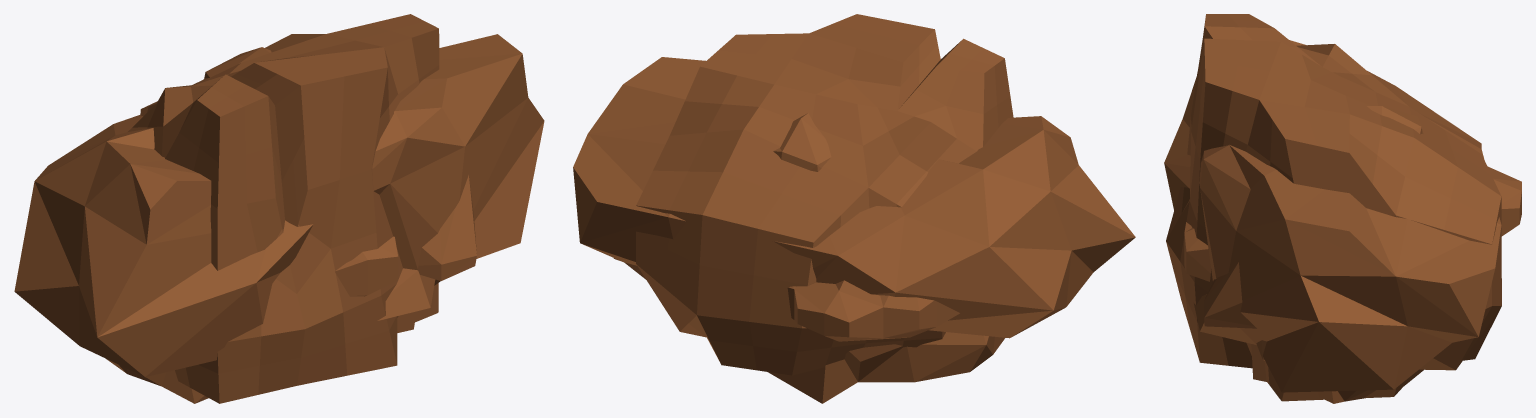
The model's file is polybeach_rocks.fbx.
3 renders of one model, left to right at view 1: azimuth 30°, elevation 25°; view 2: azimuth 150°, elevation 25°; view 3: azimuth 270°, elevation 25°, orthographic. The views are drawn at different scales.
Visible parts, largest first — view 1: beach_rock_03, beach_rock_04, beach_rock_01, beach_rock_02; view 2: beach_rock_04, beach_rock_03, beach_rock_01, beach_rock_02; view 3: beach_rock_03, beach_rock_04, beach_rock_01, beach_rock_02.
Boxes of the visible parts, left/top/right/bottom form: beach_rock_03: left=14, top=34, right=544, bottom=377; beach_rock_04: left=128, top=14, right=439, bottom=403; beach_rock_01: left=204, top=47, right=476, bottom=296; beach_rock_02: left=106, top=279, right=440, bottom=403; beach_rock_04: left=636, top=14, right=1013, bottom=375; beach_rock_03: left=573, top=57, right=1135, bottom=338; beach_rock_01: left=773, top=113, right=959, bottom=341; beach_rock_02: left=768, top=332, right=1004, bottom=403; beach_rock_03: left=1164, top=40, right=1501, bottom=392; beach_rock_04: left=1166, top=14, right=1501, bottom=401; beach_rock_01: left=1184, top=106, right=1521, bottom=328; beach_rock_02: left=1251, top=340, right=1423, bottom=403.
Bounding box in the file's own units: 2.57 × 1.58 × 1.64.
